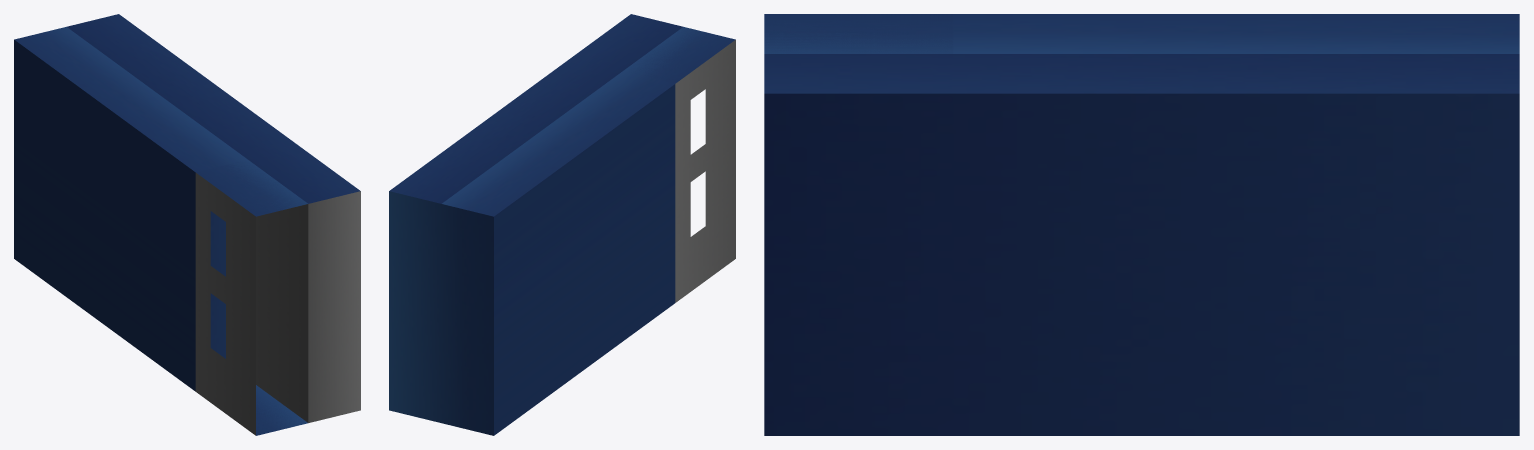
Rendered from usb.obj.
3 views of the same model, side by side, from view 1: azimuth 30°, elevation 25°; view 2: azimuth 150°, elevation 25°; view 3: azimuth 270°, elevation 25° (orthographic). The views are drawn at different scales.
Parts seen in each view (by area): view 1: Cube_Cube.001; view 2: Cube_Cube.001; view 3: Cube_Cube.001.
Boxes of the visible parts, x1,y1,x2,y2 form: Cube_Cube.001: (14, 14, 360, 435); Cube_Cube.001: (389, 14, 735, 435); Cube_Cube.001: (764, 14, 1519, 435).
Bounding box in the file's own units: 0.5 × 1 × 2.
